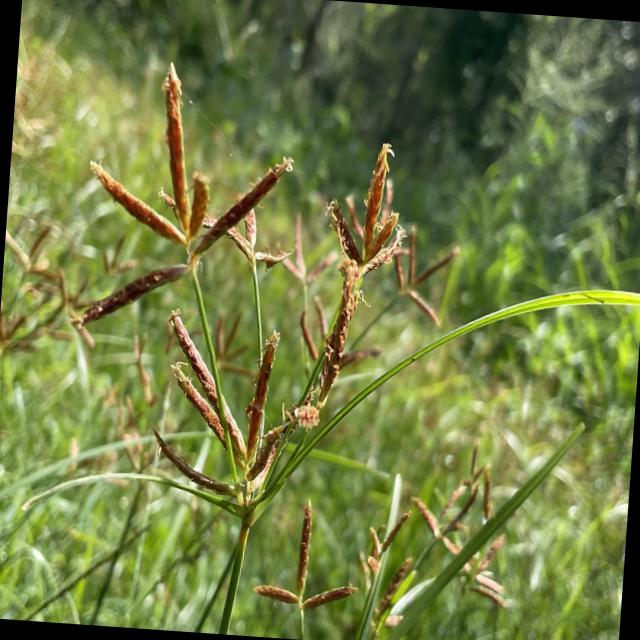cyperus: (46, 51, 400, 500), (267, 196, 456, 384), (354, 470, 529, 635), (0, 216, 126, 368), (253, 497, 359, 640)
